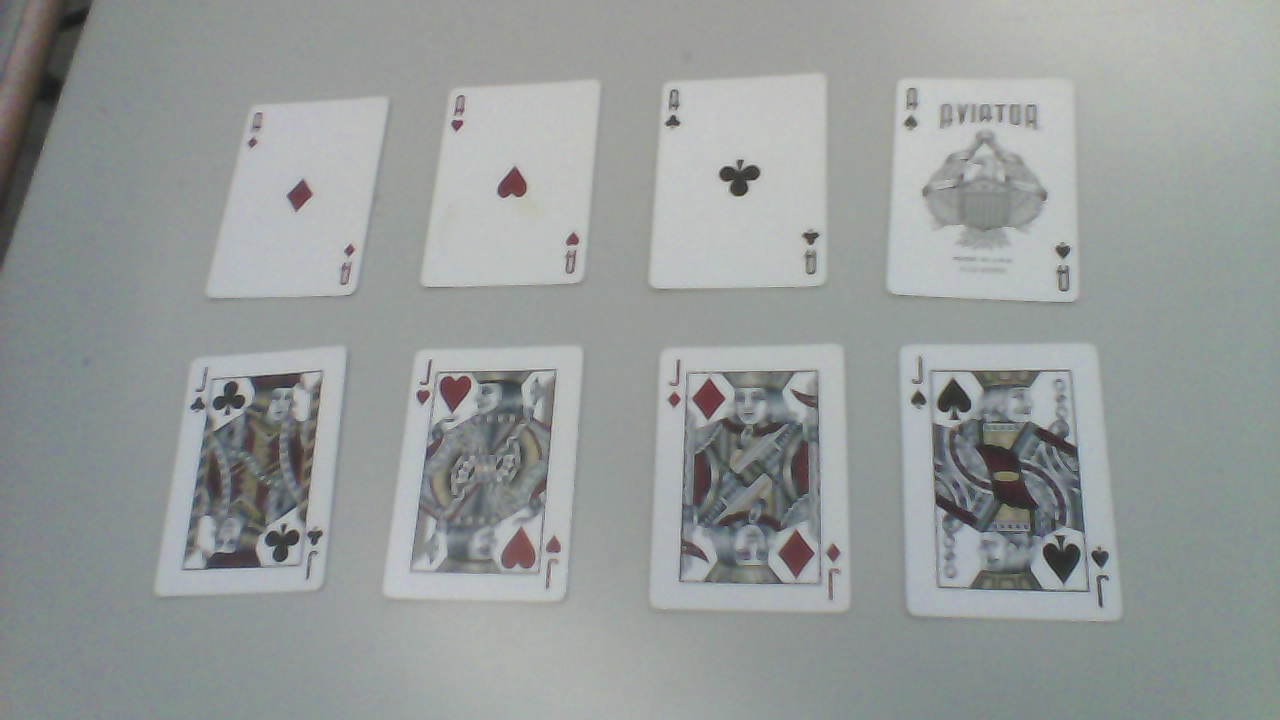ace_clubs: (652, 82, 835, 293)
ace_diamonds: (200, 102, 393, 302)
ace_hearts: (435, 85, 596, 292)
ace_spades: (890, 81, 1082, 307)
jack_clubs: (158, 351, 352, 597)
jack_diamonds: (657, 349, 854, 617)
jack_hearts: (384, 345, 593, 607)
jack_spades: (898, 347, 1129, 627)
